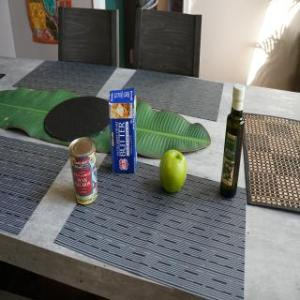bell_pepper: (155, 146, 193, 195)
